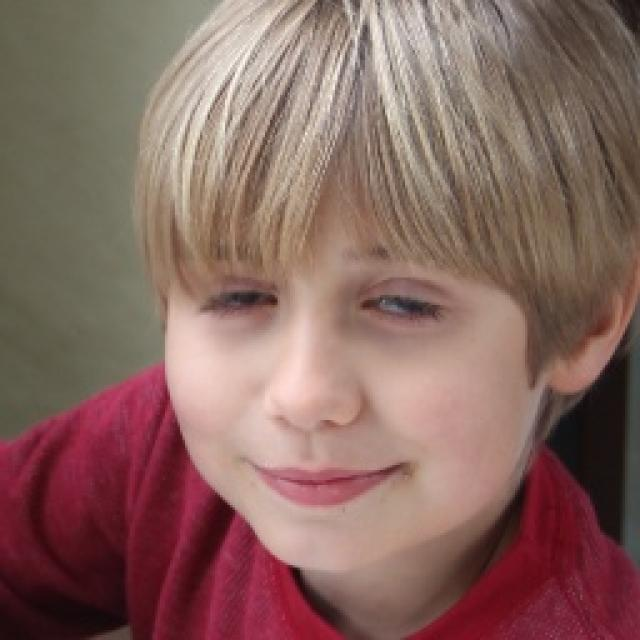earlobe: (544, 354, 608, 399)
eye: (362, 282, 448, 334), (201, 276, 283, 324)
nose: (266, 406, 359, 458)
wholeear: (550, 218, 640, 395)
